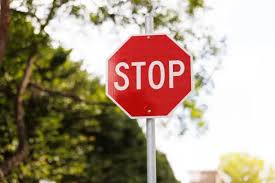stop sign: (107, 33, 192, 117)
